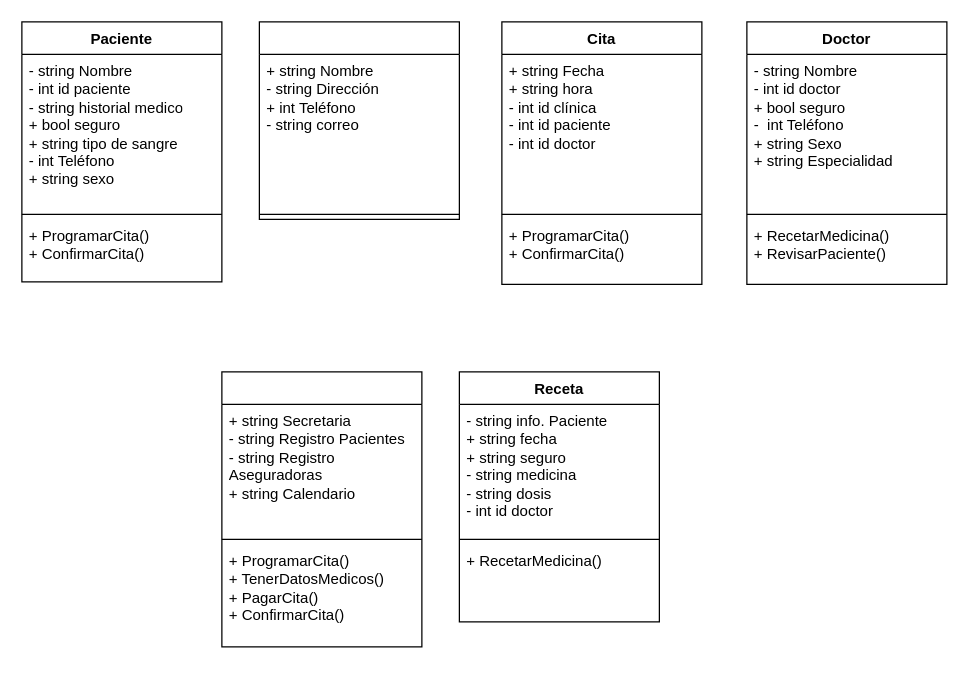
The diagram is 969 pixels wide and 673 high, and some of its shapes have lost their labels. Here are the shapes that lost their labels. From the top down, the box of each, then its label:
(258, 21, 459, 219): Clinica
(221, 371, 422, 647): Recepcion
